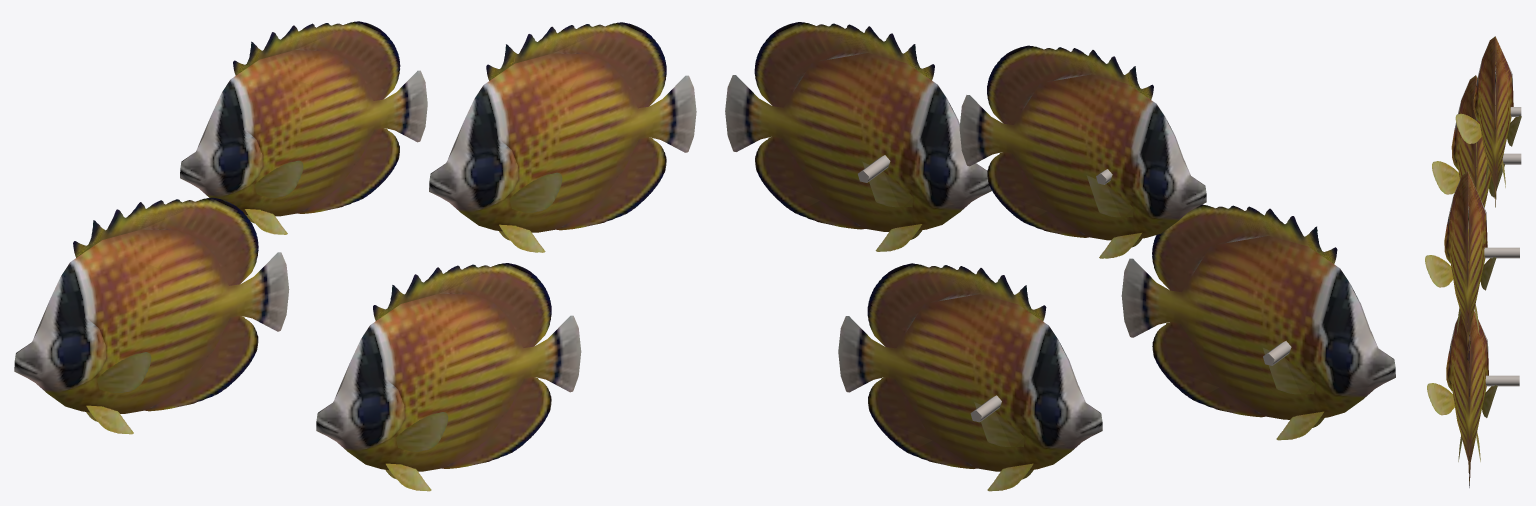
3 views of the same model, side by side, from view 1: azimuth 30°, elevation 25°; view 2: azimuth 150°, elevation 25°; view 3: azimuth 270°, elevation 25° (orthographic). The views are drawn at different scales.
Bounding box in the file's own units: 9.81 × 6.68 × 1.51.
1 material, 1 textured.
